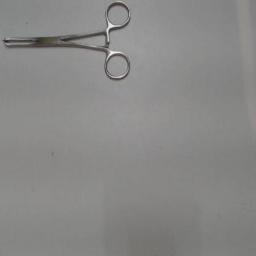Allis Tissue Forceps: (0, 0, 136, 92)
